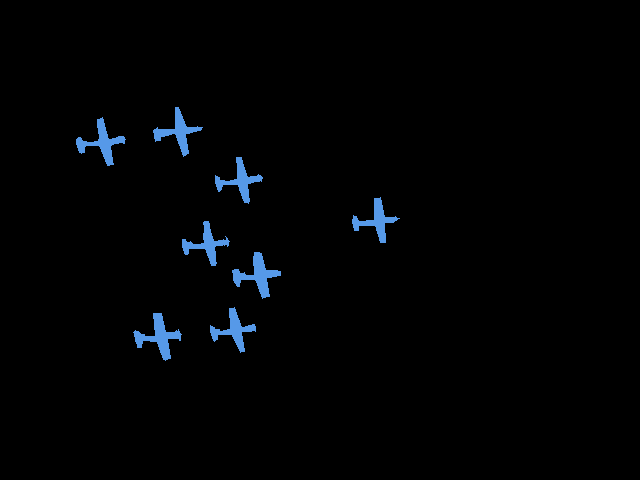Airplane: (153, 107, 203, 156), (76, 117, 125, 165), (133, 313, 182, 361), (232, 252, 281, 299), (215, 157, 263, 204), (352, 197, 399, 243), (210, 307, 256, 353), (182, 221, 229, 266)
